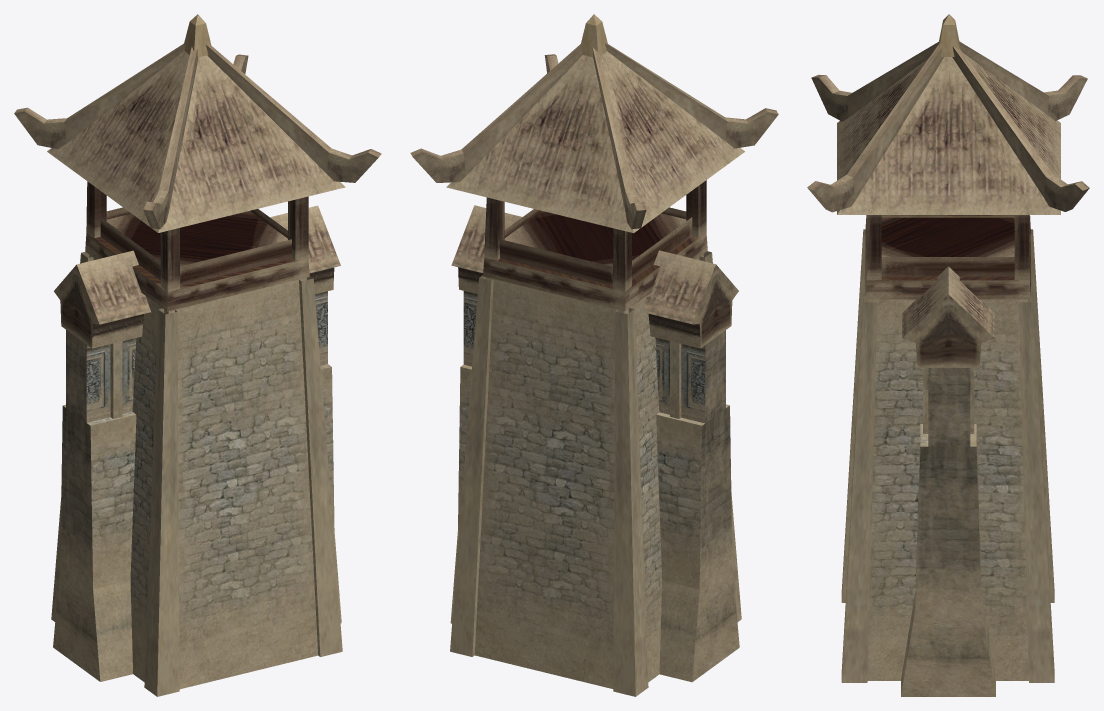
Rendered from desert-middledam-07_lod_01.fbx.
The picture shows the model from 3 angles, left to right: view 1: azimuth 30°, elevation 25°; view 2: azimuth 150°, elevation 25°; view 3: azimuth 270°, elevation 25°; orthographic projection.
Visible parts, largest first — view 1: desert-middledam-03, desert-middledam-02, desert-middledam-04; view 2: desert-middledam-03, desert-middledam-02, desert-middledam-04; view 3: desert-middledam-03, desert-middledam-02, desert-middledam-04.
Boxes of the visible parts, x1,y1,x2,y2 form: desert-middledam-03: [47, 14, 345, 696]; desert-middledam-02: [53, 205, 341, 681]; desert-middledam-04: [14, 43, 381, 311]; desert-middledam-03: [446, 14, 744, 696]; desert-middledam-02: [450, 205, 739, 682]; desert-middledam-04: [410, 43, 778, 311]; desert-middledam-03: [837, 14, 1060, 682]; desert-middledam-02: [901, 266, 995, 696]; desert-middledam-04: [807, 41, 1089, 299].
Size of the model in its own units: 5 by 12.29 by 5.05.
